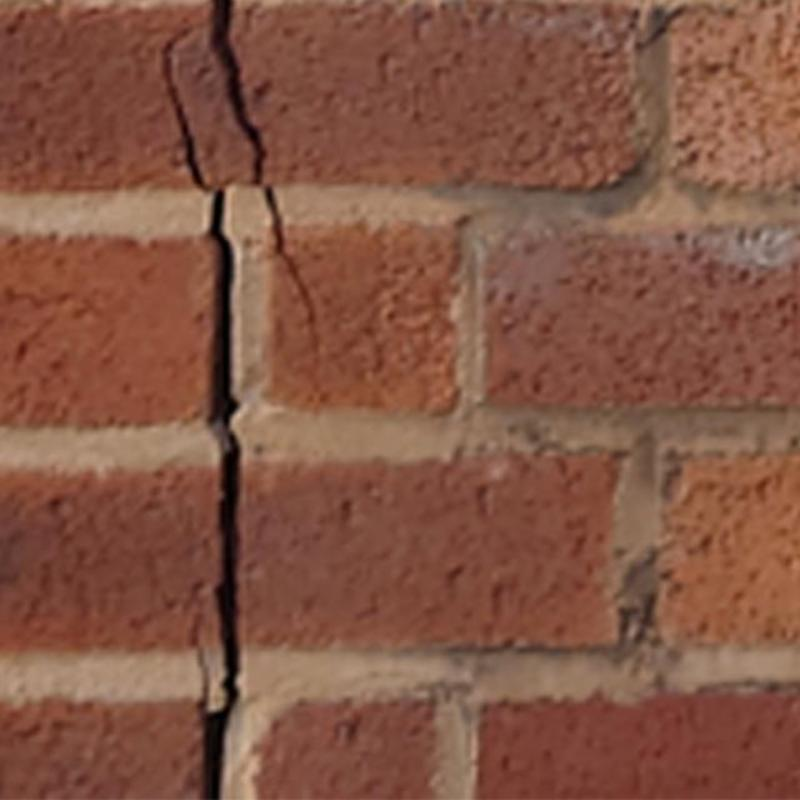crack: (187, 188, 244, 799), (211, 0, 314, 334), (162, 39, 212, 190), (634, 5, 685, 50)
